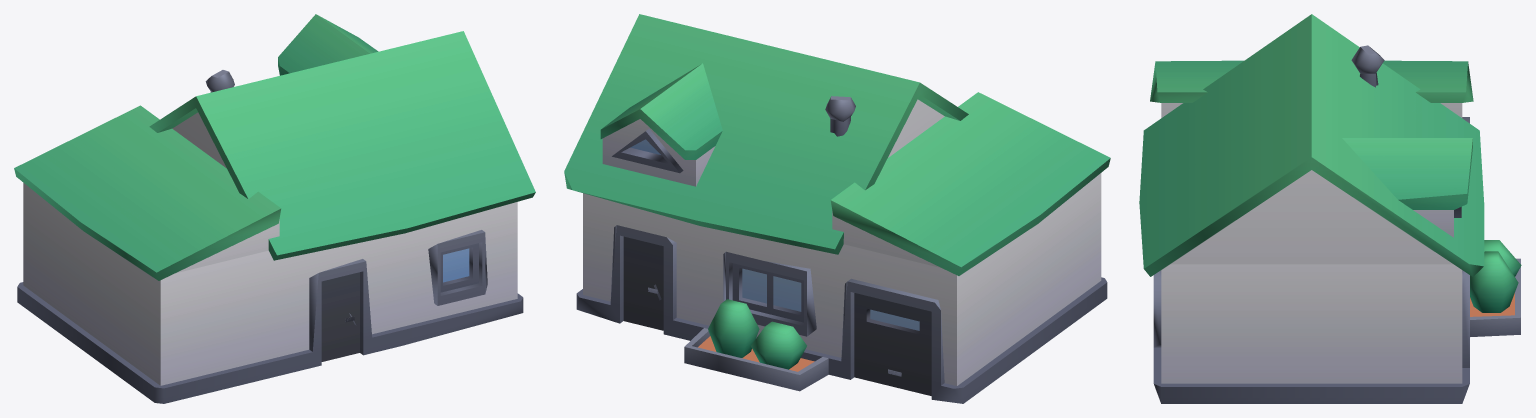
Rendered from 062_city-kit-suburban_building-type-i_card.glb.
The picture shows the model from 3 angles, left to right: view 1: azimuth 30°, elevation 25°; view 2: azimuth 150°, elevation 25°; view 3: azimuth 270°, elevation 25°; orthographic projection. The views are drawn at different scales.
Visible parts, largest first — view 1: building-type-i; view 2: building-type-i; view 3: building-type-i.
Boxes of the visible parts, box(x1,y1,x2,y2) form: building-type-i: box(14, 14, 535, 403); building-type-i: box(564, 14, 1110, 403); building-type-i: box(1139, 14, 1521, 403).
Size of the model in its own units: 1.29 by 0.7375 by 1.02.
1 material, 1 textured.
